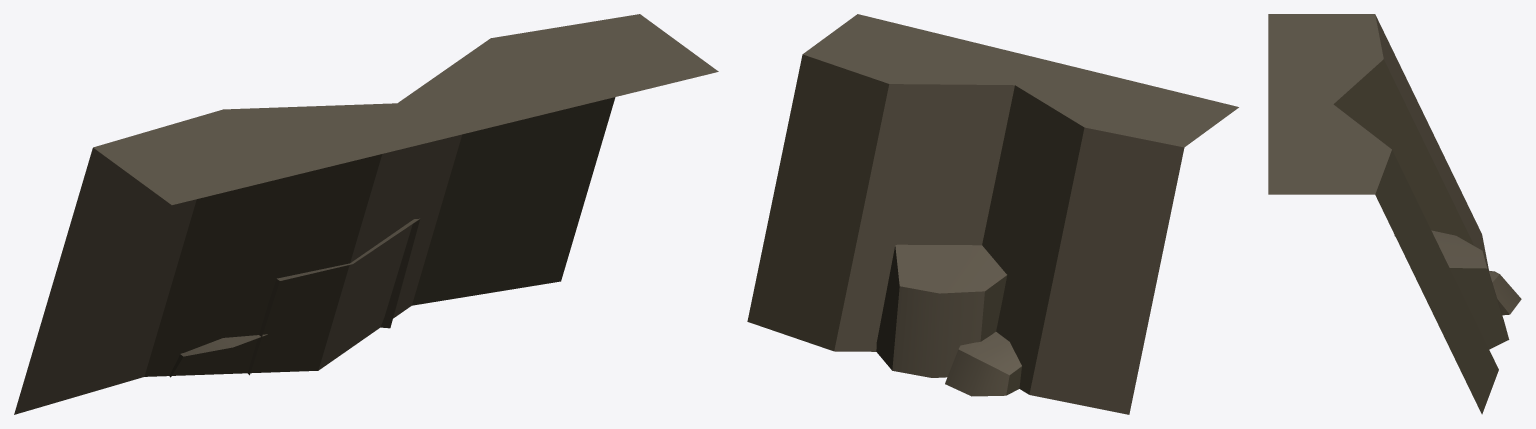
The model's file is SF_Env_RockEdge_Straight_02.fbx.
3 renders of one model, left to right at view 1: azimuth 30°, elevation 25°; view 2: azimuth 150°, elevation 25°; view 3: azimuth 270°, elevation 25°, orthographic. The views are drawn at different scales.
Visible parts, largest first — view 1: SF_Env_RockEdge_Straight_02; view 2: SF_Env_RockEdge_Straight_02; view 3: SF_Env_RockEdge_Straight_02.
Part boxes in pixels (left/top/right/bottom): SF_Env_RockEdge_Straight_02: left=14, top=14, right=718, bottom=414; SF_Env_RockEdge_Straight_02: left=747, top=14, right=1238, bottom=414; SF_Env_RockEdge_Straight_02: left=1268, top=14, right=1521, bottom=414.
Bounding box in the file's own units: 10 × 5.68 × 5.93.
